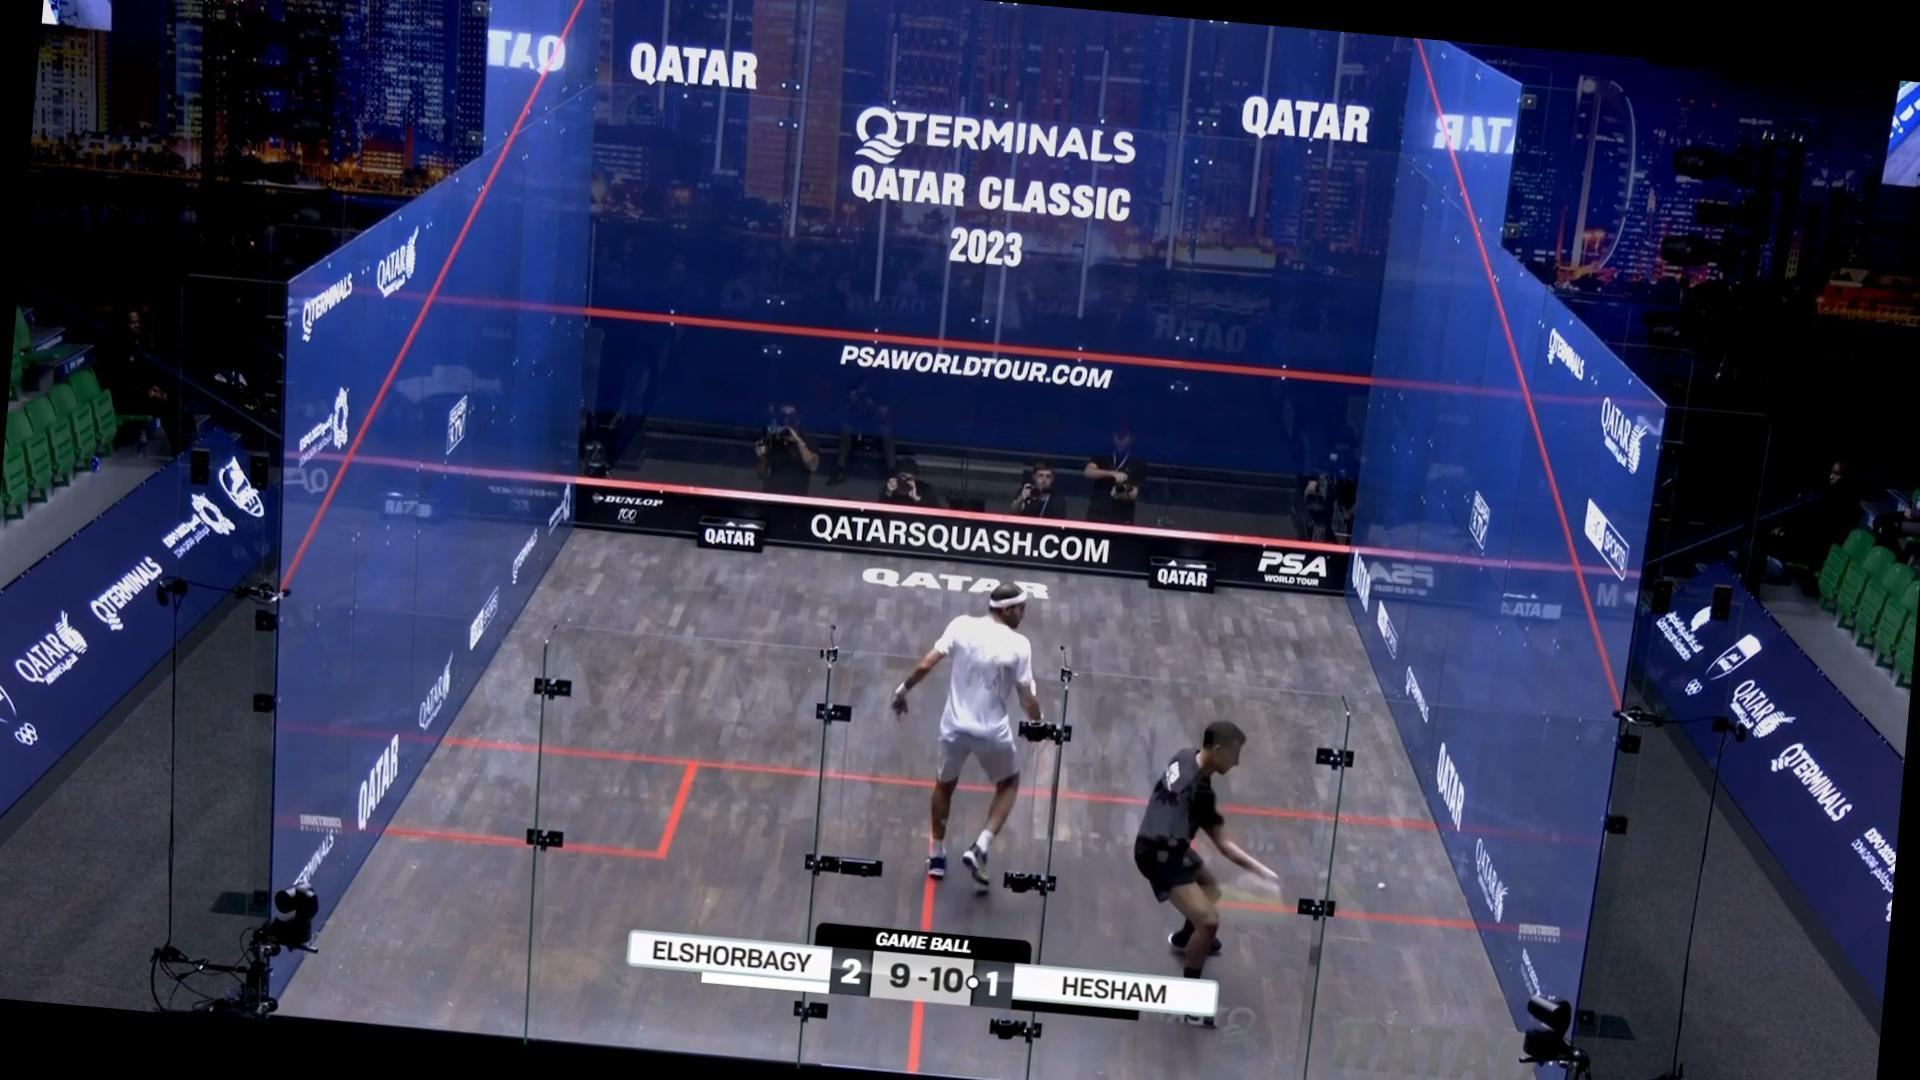Squash-Ball: (1367, 869, 1396, 902)
